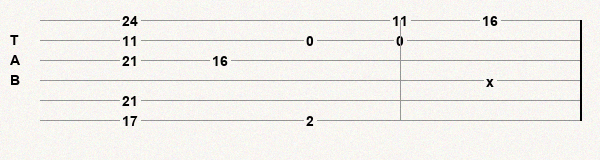0: (306, 33, 318, 47), (396, 33, 408, 47)
11: (122, 33, 142, 47), (392, 13, 412, 27)
16: (212, 53, 232, 67), (482, 13, 502, 27)
17: (122, 113, 142, 127)
2: (306, 113, 318, 127)
21: (122, 53, 142, 67), (122, 93, 142, 107)
24: (122, 13, 142, 27)
x: (486, 74, 498, 86)
